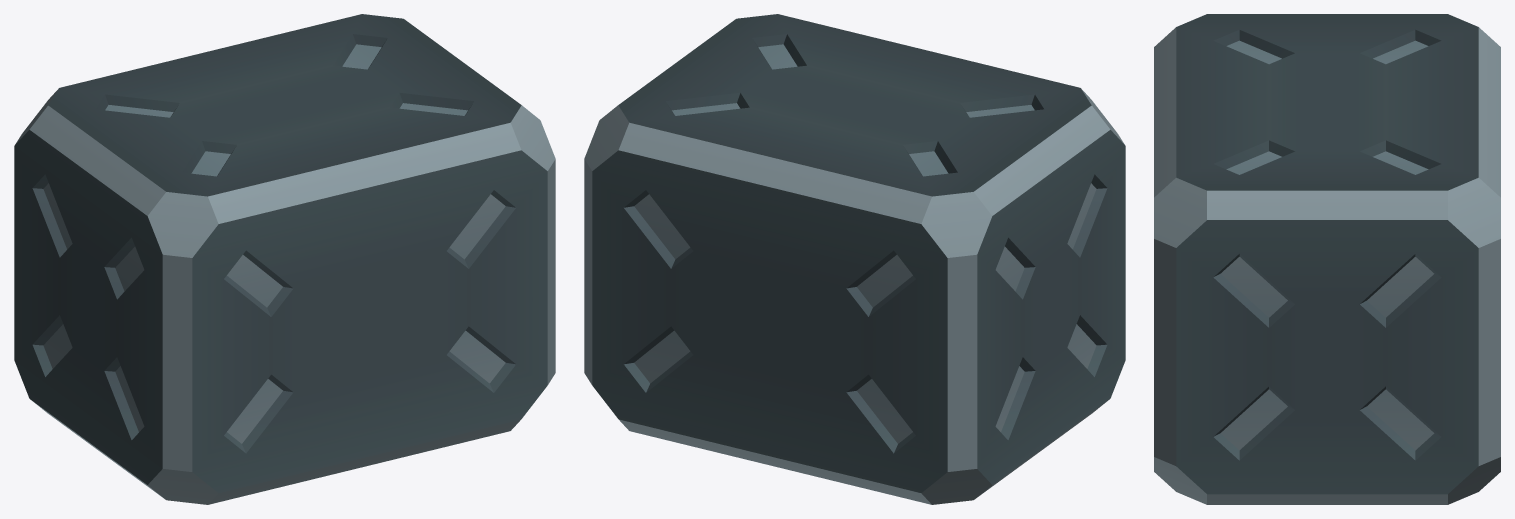
3 views of the same model, side by side, from view 1: azimuth 30°, elevation 25°; view 2: azimuth 150°, elevation 25°; view 3: azimuth 270°, elevation 25° (orthographic).
Parts seen in each view (by area): view 1: Box_004; view 2: Box_004; view 3: Box_004.
Boxes of the visible parts, <box> form: Box_004: <box>14,14,555,504</box>; Box_004: <box>584,14,1125,504</box>; Box_004: <box>1154,14,1500,504</box>.
Bounding box in the file's own units: 80 × 60 × 60.
